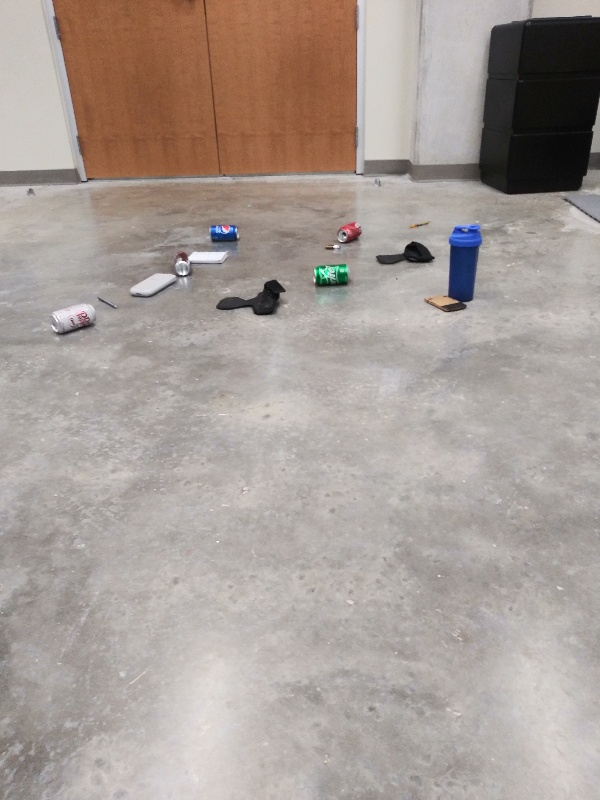can: (47, 300, 102, 335), (311, 261, 352, 290), (206, 221, 242, 244), (335, 220, 364, 244), (173, 248, 194, 278)
